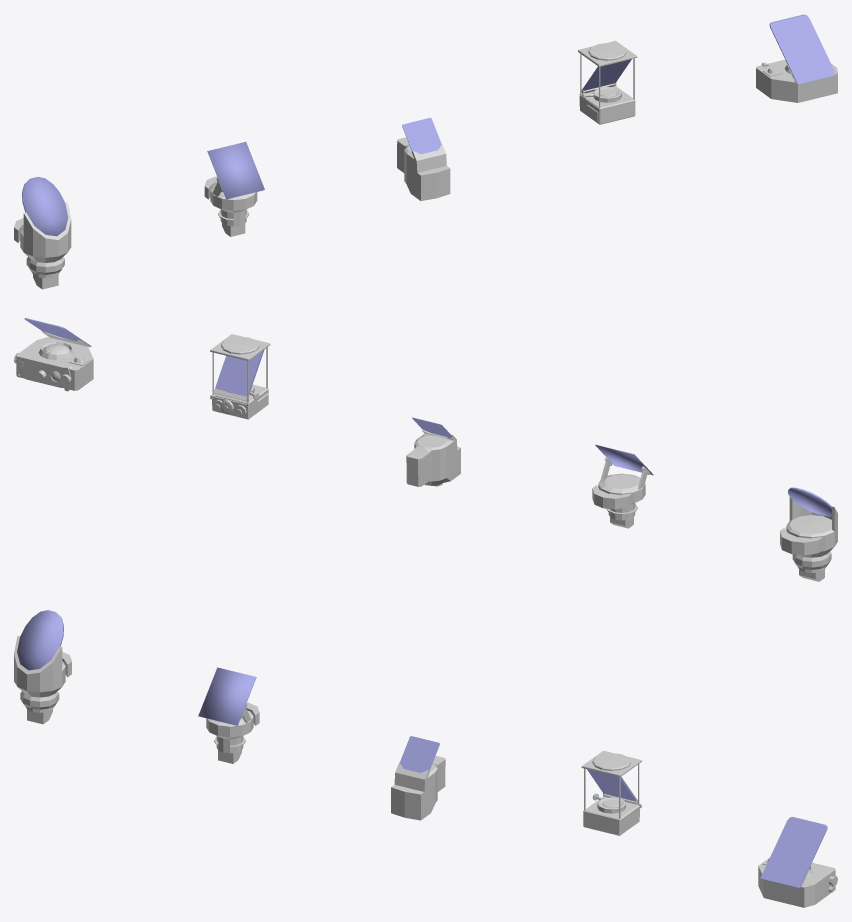
File: Gunsights.fbx
The picture shows the model from 3 angles, top to bottom: view 1: azimuth 30°, elevation 25°; view 2: azimuth 150°, elevation 25°; view 3: azimuth 330°, elevation 25°; orthographic projection.
Parts seen in each view (by area): view 1: OPL 39 Gunsight, GH 38 Glass, Mk.I Gunsight, Revi Gunsight, GH 38 Gunsight, Mk.II Gunsight Glass, Mk.I Gunsight Glass, Mk.II Gunsight, Revi Gunsight Glass, OPL 39 Gunsight Glass; view 2: GH 38 Gunsight, Mk.I Gunsight, OPL 39 Gunsight, Revi Gunsight, Mk.II Gunsight, OPL 39 Gunsight Glass, Mk.I Gunsight Glass, Mk.II Gunsight Glass; view 3: OPL 39 Gunsight, GH 38 Glass, Mk.I Gunsight, Revi Gunsight, Mk.II Gunsight Glass, GH 38 Gunsight, Mk.I Gunsight Glass, Mk.II Gunsight, Revi Gunsight Glass, OPL 39 Gunsight Glass.
Part boxes in pixels (x1=…): OPL 39 Gunsight: x1=578, y1=40, x2=637, y2=124; GH 38 Glass: x1=769, y1=14, x2=836, y2=84; Mk.I Gunsight: x1=14, y1=202, x2=71, y2=289; Revi Gunsight: x1=397, y1=137, x2=450, y2=200; GH 38 Gunsight: x1=756, y1=59, x2=837, y2=102; Mk.II Gunsight Glass: x1=207, y1=142, x2=264, y2=199; Mk.I Gunsight Glass: x1=22, y1=177, x2=68, y2=236; Mk.II Gunsight: x1=204, y1=176, x2=257, y2=236; Revi Gunsight Glass: x1=402, y1=117, x2=441, y2=154; OPL 39 Gunsight Glass: x1=583, y1=59, x2=631, y2=90; GH 38 Gunsight: x1=14, y1=331, x2=93, y2=391; Mk.I Gunsight: x1=780, y1=497, x2=837, y2=581; OPL 39 Gunsight: x1=210, y1=334, x2=270, y2=419; Revi Gunsight: x1=406, y1=429, x2=460, y2=486; Mk.II Gunsight: x1=592, y1=457, x2=649, y2=528; OPL 39 Gunsight Glass: x1=215, y1=349, x2=264, y2=396; Mk.I Gunsight Glass: x1=788, y1=487, x2=831, y2=516; Mk.II Gunsight Glass: x1=595, y1=444, x2=653, y2=475; OPL 39 Gunsight: x1=581, y1=750, x2=641, y2=835; GH 38 Glass: x1=760, y1=817, x2=827, y2=887; Mk.I Gunsight: x1=14, y1=636, x2=71, y2=724; Revi Gunsight: x1=391, y1=755, x2=445, y2=820; Mk.II Gunsight Glass: x1=198, y1=667, x2=256, y2=725; GH 38 Gunsight: x1=758, y1=857, x2=837, y2=907; Mk.I Gunsight Glass: x1=17, y1=610, x2=63, y2=670; Mk.II Gunsight: x1=206, y1=702, x2=259, y2=763; Revi Gunsight Glass: x1=400, y1=736, x2=439, y2=772; OPL 39 Gunsight Glass: x1=587, y1=769, x2=636, y2=801.
Size of the model in its own units: 214 by 25.09 by 18.9.
